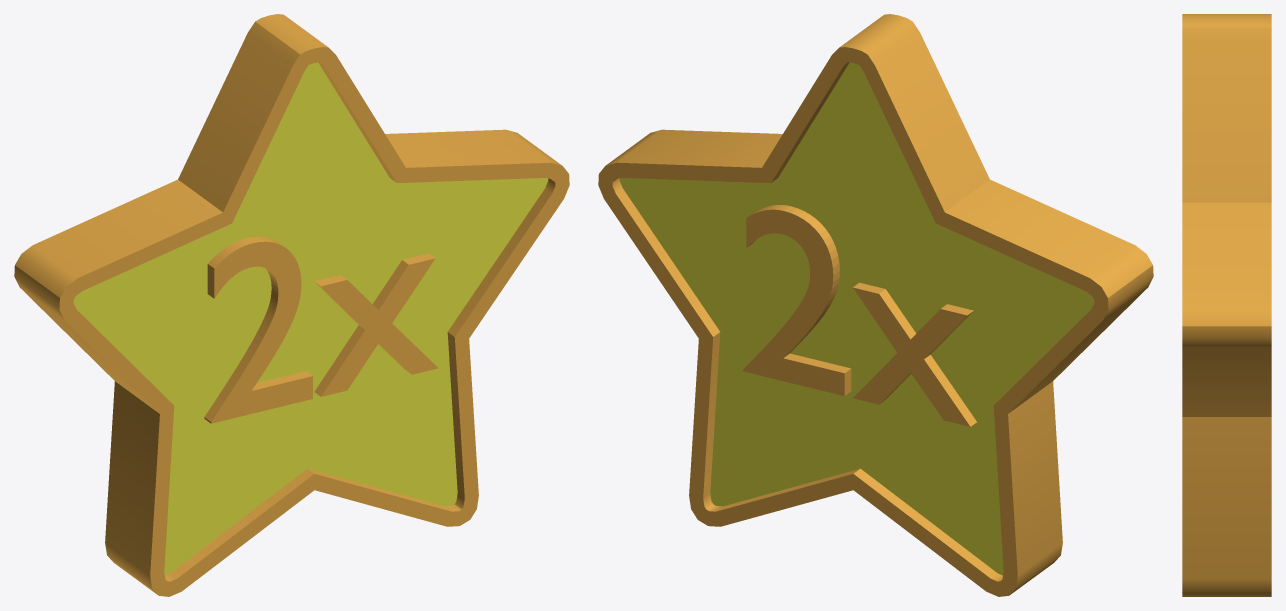
File: Star2x.fbx
The picture shows the model from 3 angles, left to right: view 1: azimuth 30°, elevation 25°; view 2: azimuth 150°, elevation 25°; view 3: azimuth 270°, elevation 25°; orthographic projection.
Visible parts, largest first — view 1: Plane; view 2: Plane; view 3: Plane.
Boxes of the visible parts, x1,y1,x2,y2 form: Plane: (14,14,569,596); Plane: (598,14,1153,596); Plane: (1182,14,1271,596).
Bounding box in the file's own units: 184 × 177 × 28.14.
